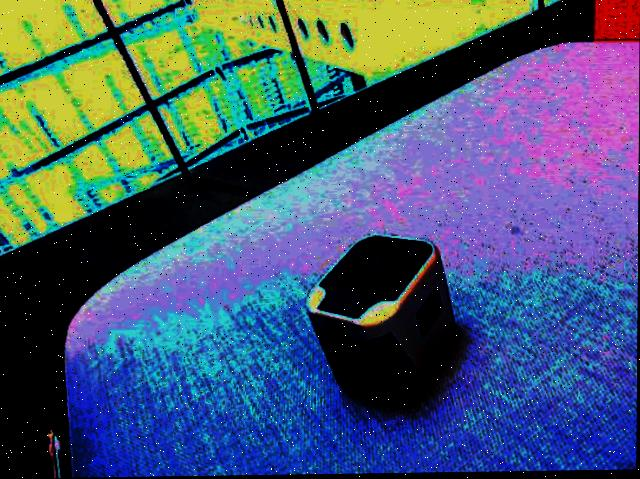adapter: (305, 235, 455, 402)
